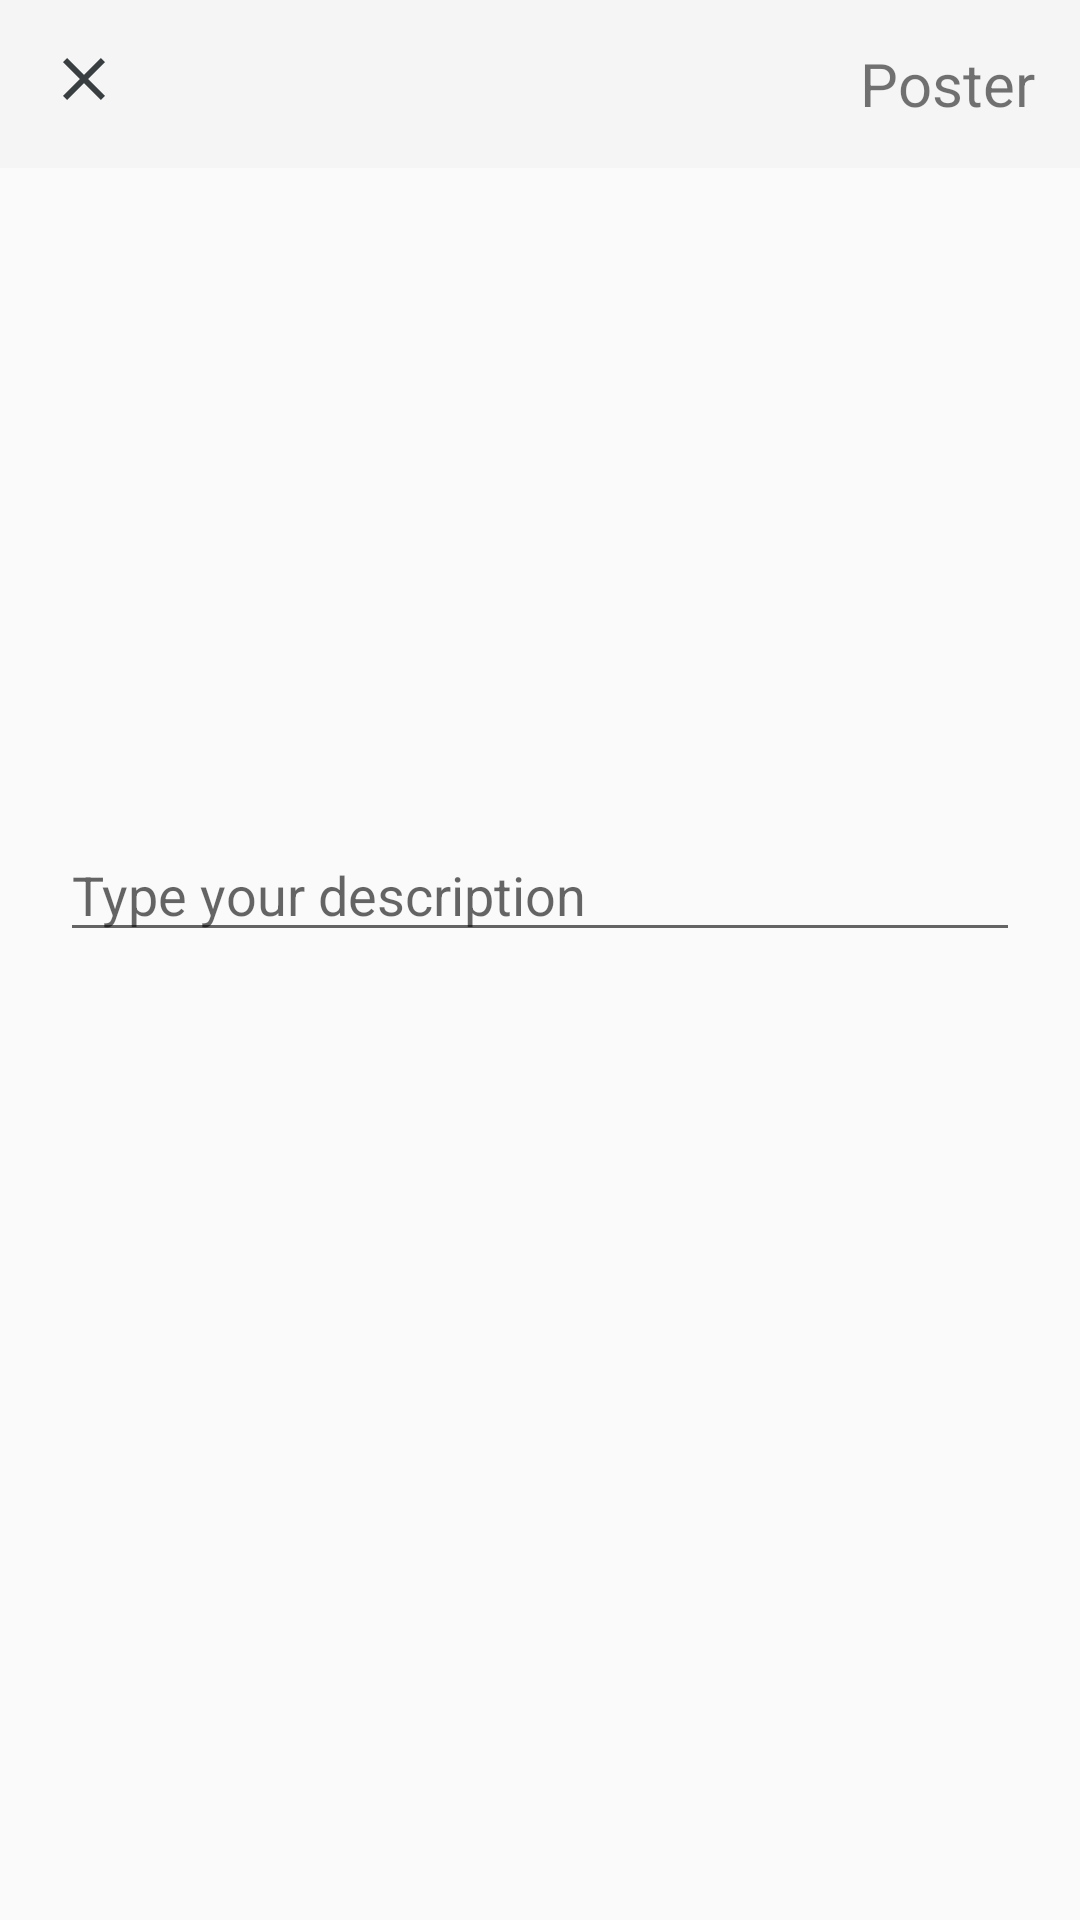

Icons on this 1080px x 1920px Android screen, each with its box as (x1, y1, x2, y2):
close: (63, 58, 105, 100)
